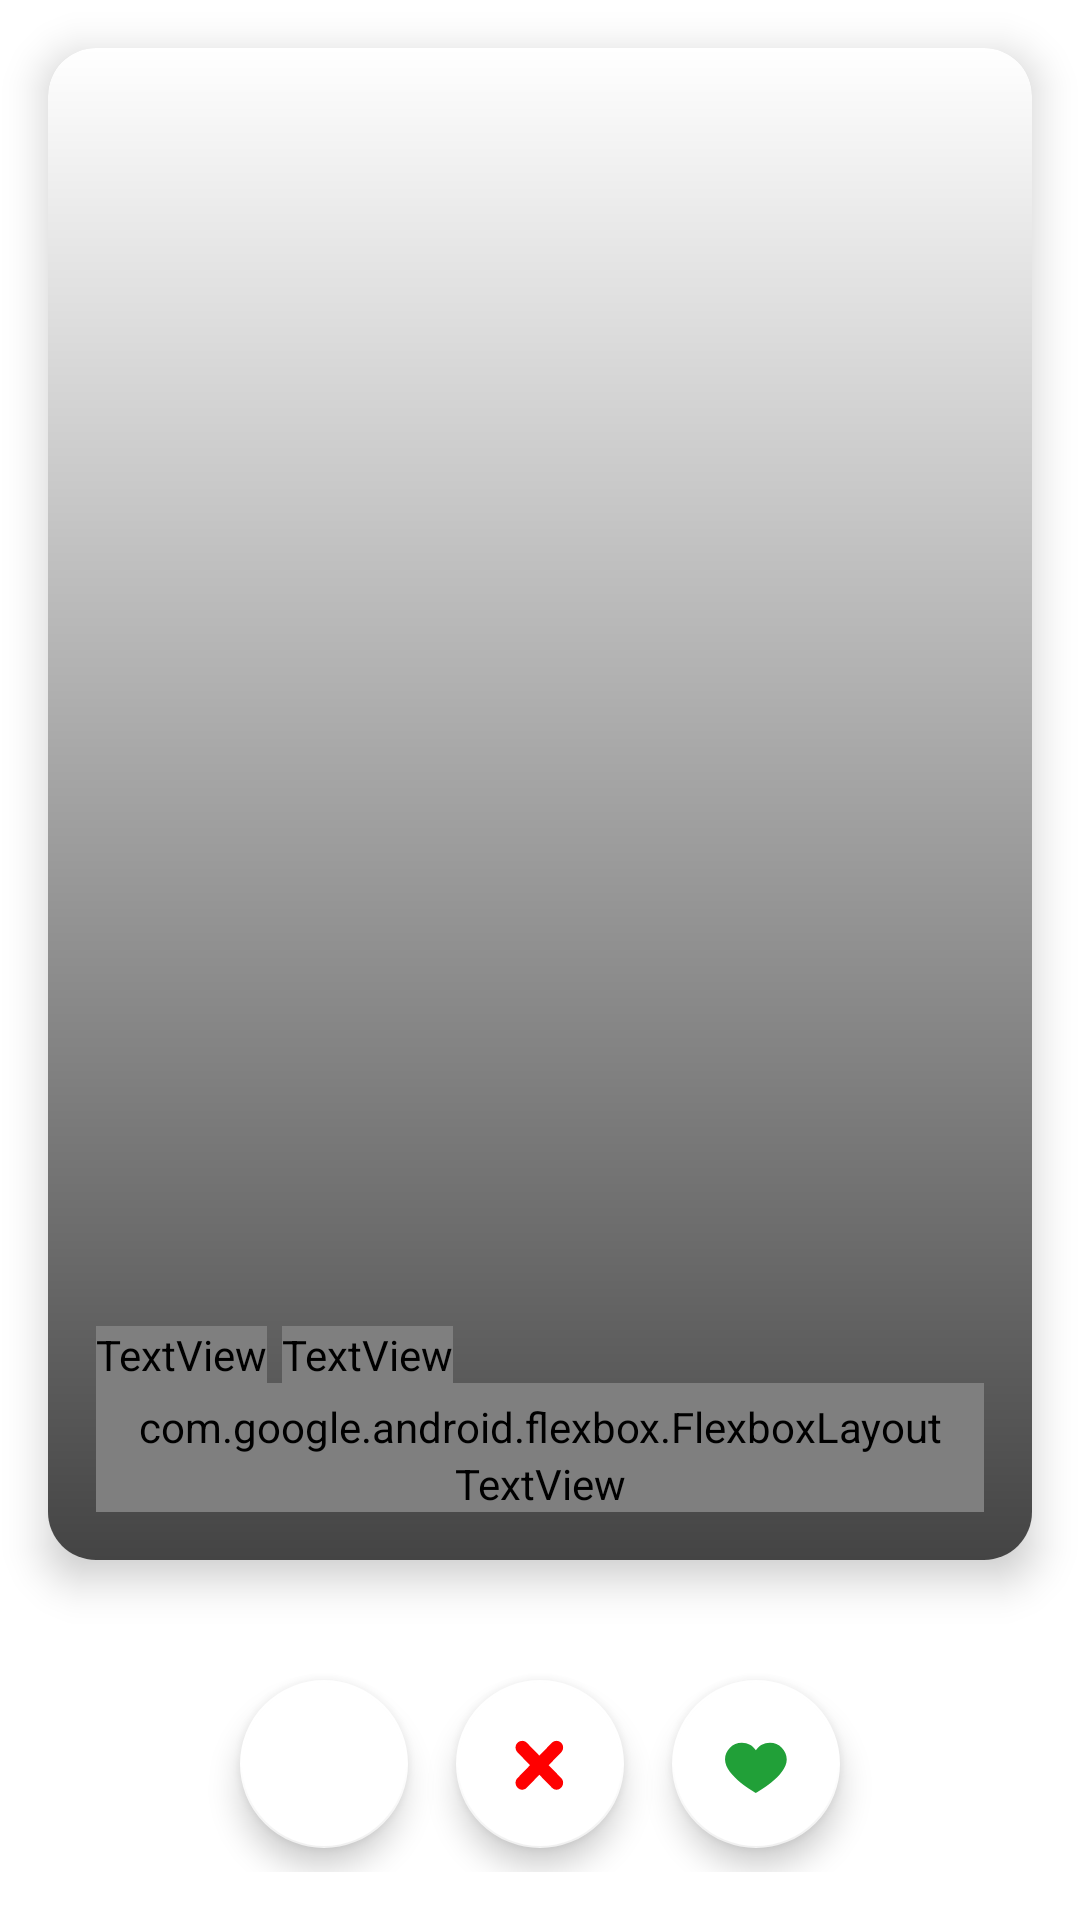

Where to tap for icons on this 1080*1920 app screen, as (x=x, y=y):
Like: (x=731, y=1767)
